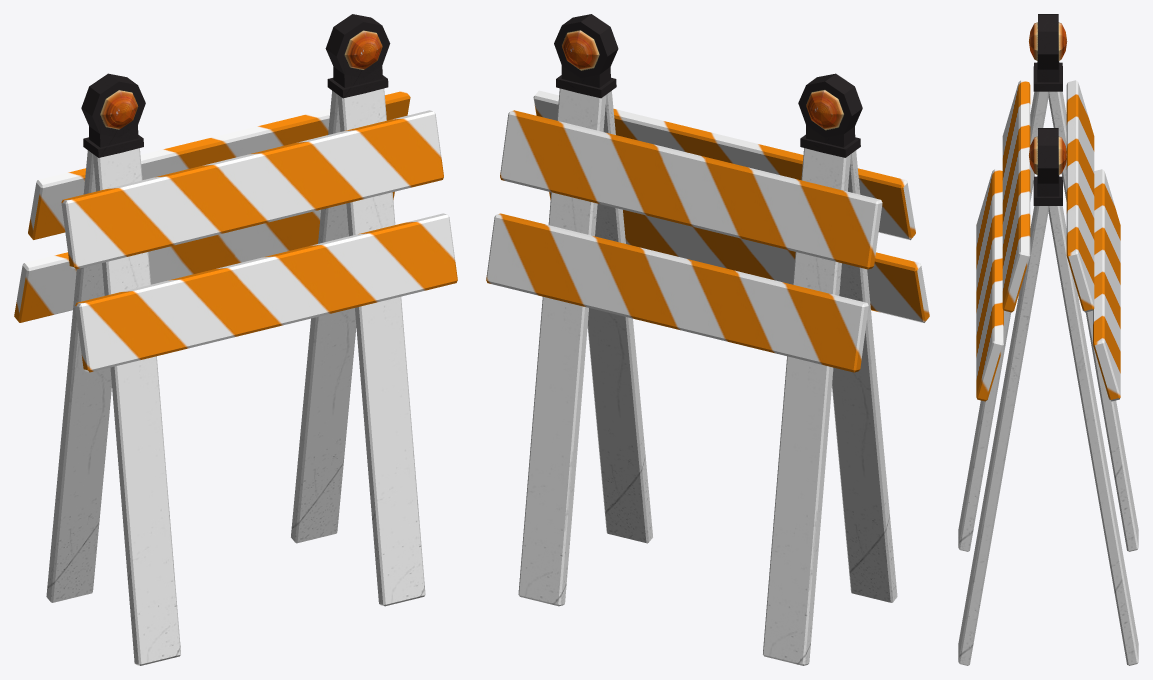
File: barriorz.FBX
The picture shows the model from 3 angles, left to right: view 1: azimuth 30°, elevation 25°; view 2: azimuth 150°, elevation 25°; view 3: azimuth 270°, elevation 25°; orthographic projection. The views are drawn at different scales.
Visible parts, largest first — view 1: Roadsignlight; view 2: Roadsignlight; view 3: Roadsignlight.
Part boxes in pixels (box(x1,y1,x2,y2)): Roadsignlight: box(14, 14, 457, 665); Roadsignlight: box(486, 14, 929, 665); Roadsignlight: box(958, 14, 1138, 665).
Bounding box in the file's own units: 1211 × 534 × 1726.
3 materials, 3 textured.
